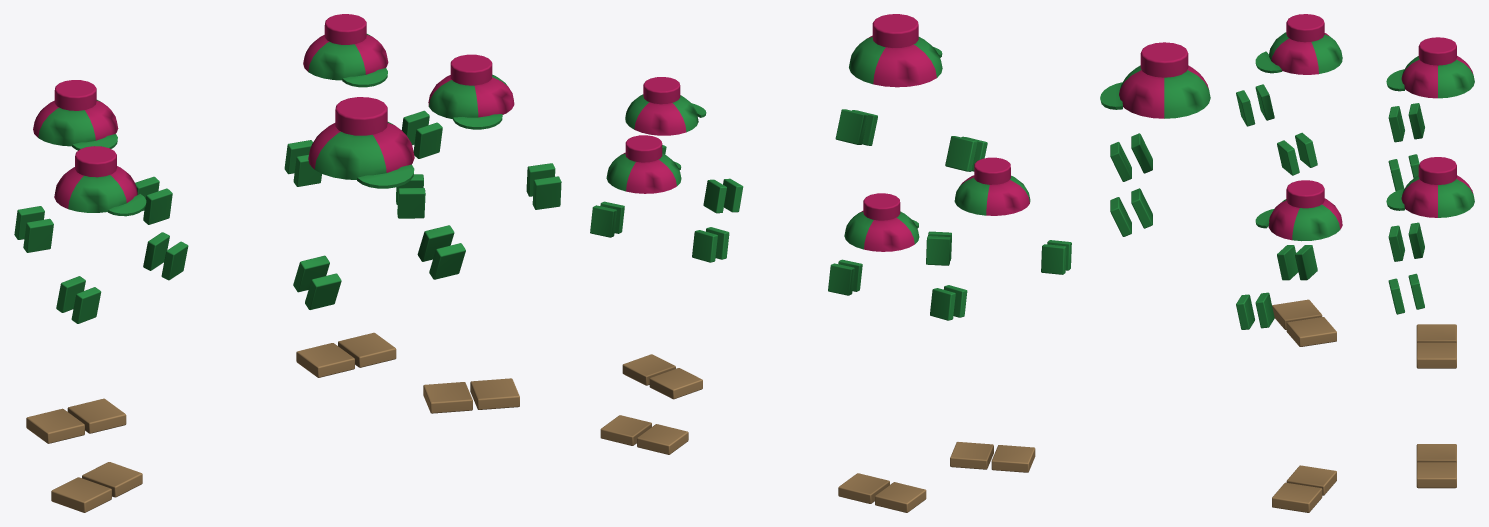
The model's file is silks-stirrups-lod0.glb.
The picture shows the model from 3 angles, left to right: view 1: azimuth 30°, elevation 25°; view 2: azimuth 150°, elevation 25°; view 3: azimuth 270°, elevation 25°; orthographic projection. The views are drawn at different scales.
Parts seen in each view (by area): view 1: cap_hat, att2_hat, att0_hat, att3_hat, att1_hat, cap_arm_l_trim, cap_arm_r_trim, att3_leg_r_trim, att3_arm_r_trim, att1_leg_r_trim, att0_leg_r_trim, att1_arm_r_trim (+11 smaller); view 2: cap_hat, att2_hat, att0_hat, att1_hat, att3_hat, cap_arm_l_trim, cap_arm_r_trim, att2_leg_r_trim, att2_arm_r_trim, att0_leg_r_trim, att1_leg_r_trim, att1_arm_r_trim (+10 smaller); view 3: cap_hat, att3_hat, att1_hat, att0_hat, att2_hat, att2_arm_r_trim, att2_leg_l_trim, att3_leg_l_trim, att0_leg_l_trim, att1_leg_l_trim, cap_arm_l_trim, cap_arm_r_trim (+11 smaller).
Boxes of the visible parts, left/top/right/bottom form: cap_hat: left=308, top=97, right=414, bottom=188; att2_hat: left=428, top=54, right=514, bottom=129; att0_hat: left=303, top=14, right=388, bottom=87; att3_hat: left=54, top=146, right=146, bottom=216; att1_hat: left=33, top=80, right=118, bottom=150; cap_arm_l_trim: left=417, top=225, right=465, bottom=279; cap_arm_r_trim: left=293, top=255, right=341, bottom=309; att3_leg_r_trim: left=51, top=477, right=111, bottom=512; att3_arm_r_trim: left=56, top=276, right=101, bottom=323; att1_leg_r_trim: left=26, top=408, right=84, bottom=443; att0_leg_r_trim: left=296, top=343, right=354, bottom=377; att1_arm_r_trim: left=14, top=206, right=53, bottom=252; cap_hat: left=849, top=14, right=942, bottom=87; att2_hat: left=625, top=77, right=706, bottom=135; att0_hat: left=606, top=135, right=681, bottom=193; att1_hat: left=844, top=193, right=919, bottom=251; att3_hat: left=954, top=157, right=1030, bottom=215; cap_arm_l_trim: left=835, top=109, right=877, bottom=145; cap_arm_r_trim: left=945, top=136, right=987, bottom=171; att2_leg_r_trim: left=649, top=368, right=702, bottom=399; att2_arm_r_trim: left=703, top=178, right=743, bottom=213; att0_leg_r_trim: left=637, top=424, right=688, bottom=454; att1_leg_r_trim: left=875, top=482, right=926, bottom=512; att1_arm_r_trim: left=930, top=285, right=967, bottom=320; cap_hat: left=1100, top=42, right=1210, bottom=118; att3_hat: left=1255, top=14, right=1342, bottom=74; att1_hat: left=1386, top=37, right=1474, bottom=98; att0_hat: left=1386, top=157, right=1474, bottom=217; att2_hat: left=1255, top=180, right=1342, bottom=241; att2_arm_r_trim: left=1277, top=245, right=1317, bottom=280; att2_leg_l_trim: left=1272, top=482, right=1322, bottom=512; att3_leg_l_trim: left=1286, top=317, right=1336, bottom=346; att0_leg_l_trim: left=1416, top=462, right=1456, bottom=488; att1_leg_l_trim: left=1416, top=342, right=1456, bottom=368; cap_arm_l_trim: left=1110, top=188, right=1152, bottom=236; cap_arm_r_trim: left=1110, top=133, right=1152, bottom=181.
Size of the model in its own units: 2.28 by 1.74 by 1.64.
